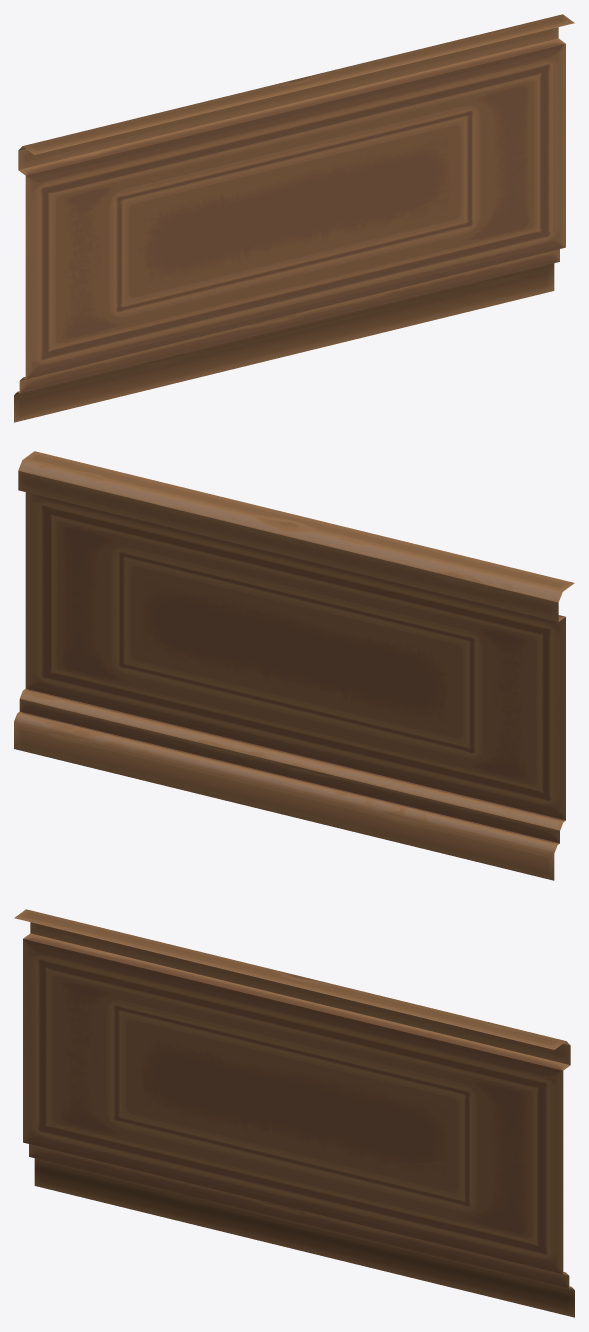
Rendered from ARC0510081.fbx.
The picture shows the model from 3 angles, top to bottom: view 1: azimuth 30°, elevation 25°; view 2: azimuth 150°, elevation 25°; view 3: azimuth 330°, elevation 25°; orthographic projection.
Parts seen in each view (by area): view 1: smARC0510081; view 2: smARC0510081; view 3: smARC0510081.
Part boxes in pixels (x1=…): smARC0510081: x1=14, y1=14, x2=574, y2=422; smARC0510081: x1=14, y1=451, x2=574, y2=880; smARC0510081: x1=14, y1=909, x2=574, y2=1317.
Bounding box in the file's own units: 150 × 75 × 9.89.
